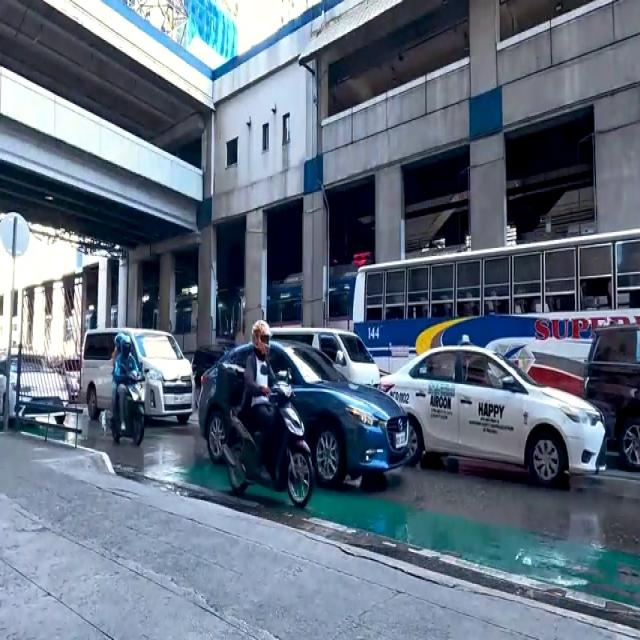bus: (354, 242, 640, 422)
car: (406, 346, 612, 489), (198, 342, 408, 478), (82, 326, 199, 428), (0, 346, 72, 444)
motorcycle: (220, 314, 303, 500), (102, 336, 148, 446)
